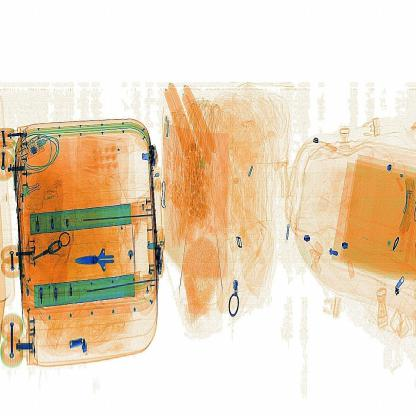gun: (78, 226, 128, 292)
